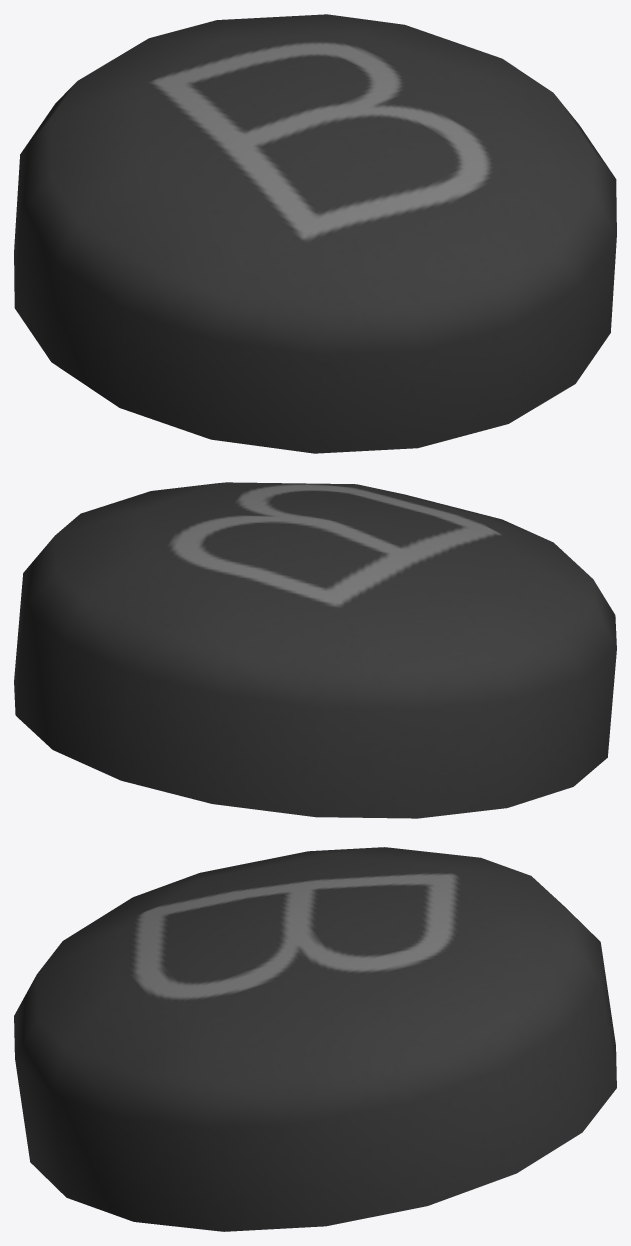
File: oculus_quest_controller_right_buttonB.obj
3 views of the same model, one above another, from view 1: azimuth 30°, elevation 25°; view 2: azimuth 150°, elevation 25°; view 3: azimuth 270°, elevation 25° (orthographic).
Bounding box in the file's own units: 0.0105 × 0.00437 × 0.0105.
